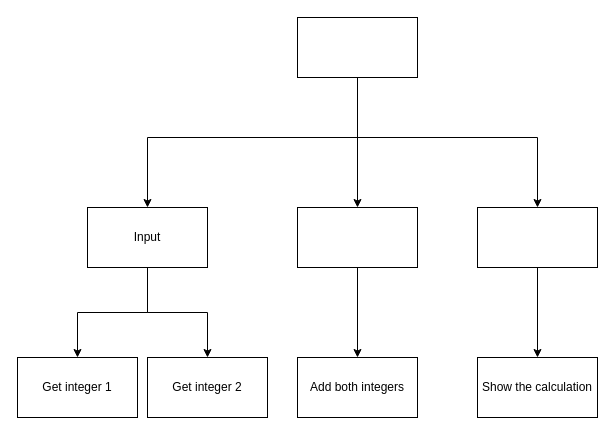
This 615x435 diagram has some shape labels left out. The shapes that lost their labels are listed below. From the top down, each one's centre as x and y in pixels, then its label:
(357,47): Integer Addition
(357,237): Process
(537,237): Output
